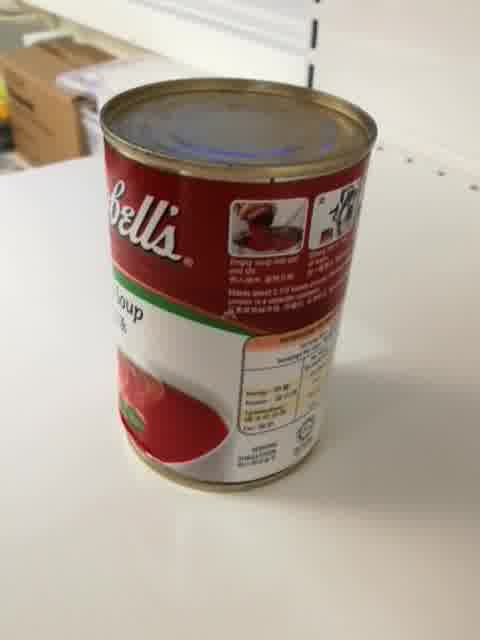tomatosoup: (97, 75, 379, 495)
